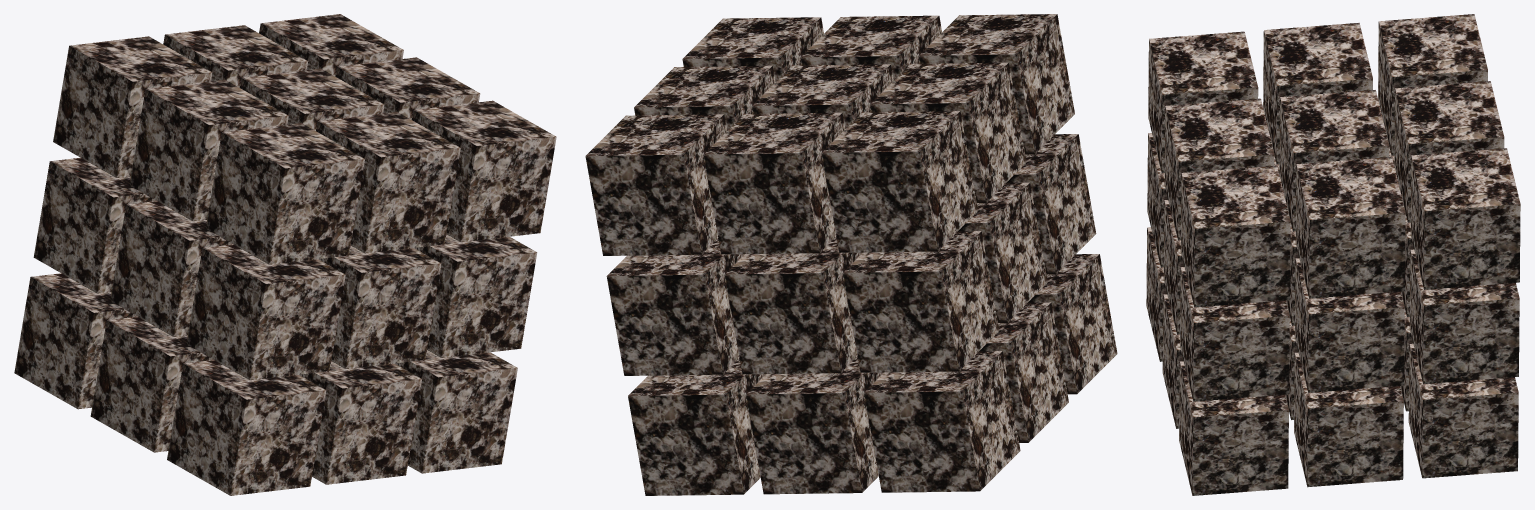
Rendered from 8cubestexture.dae.
3 views of the same model, side by side, from view 1: azimuth 30°, elevation 25°; view 2: azimuth 150°, elevation 25°; view 3: azimuth 270°, elevation 25° (orthographic). The views are drawn at different scales.
Visible parts, largest first — view 1: Cube; view 2: Cube; view 3: Cube.
Part boxes in pixels (x1,y1,x2,y2): Cube: (14, 14, 556, 495); Cube: (585, 14, 1117, 495); Cube: (1146, 14, 1520, 495).
Bounding box in the file's own units: 8.82 × 7.74 × 8.06.
Materials: 1 (1 with a texture image).
